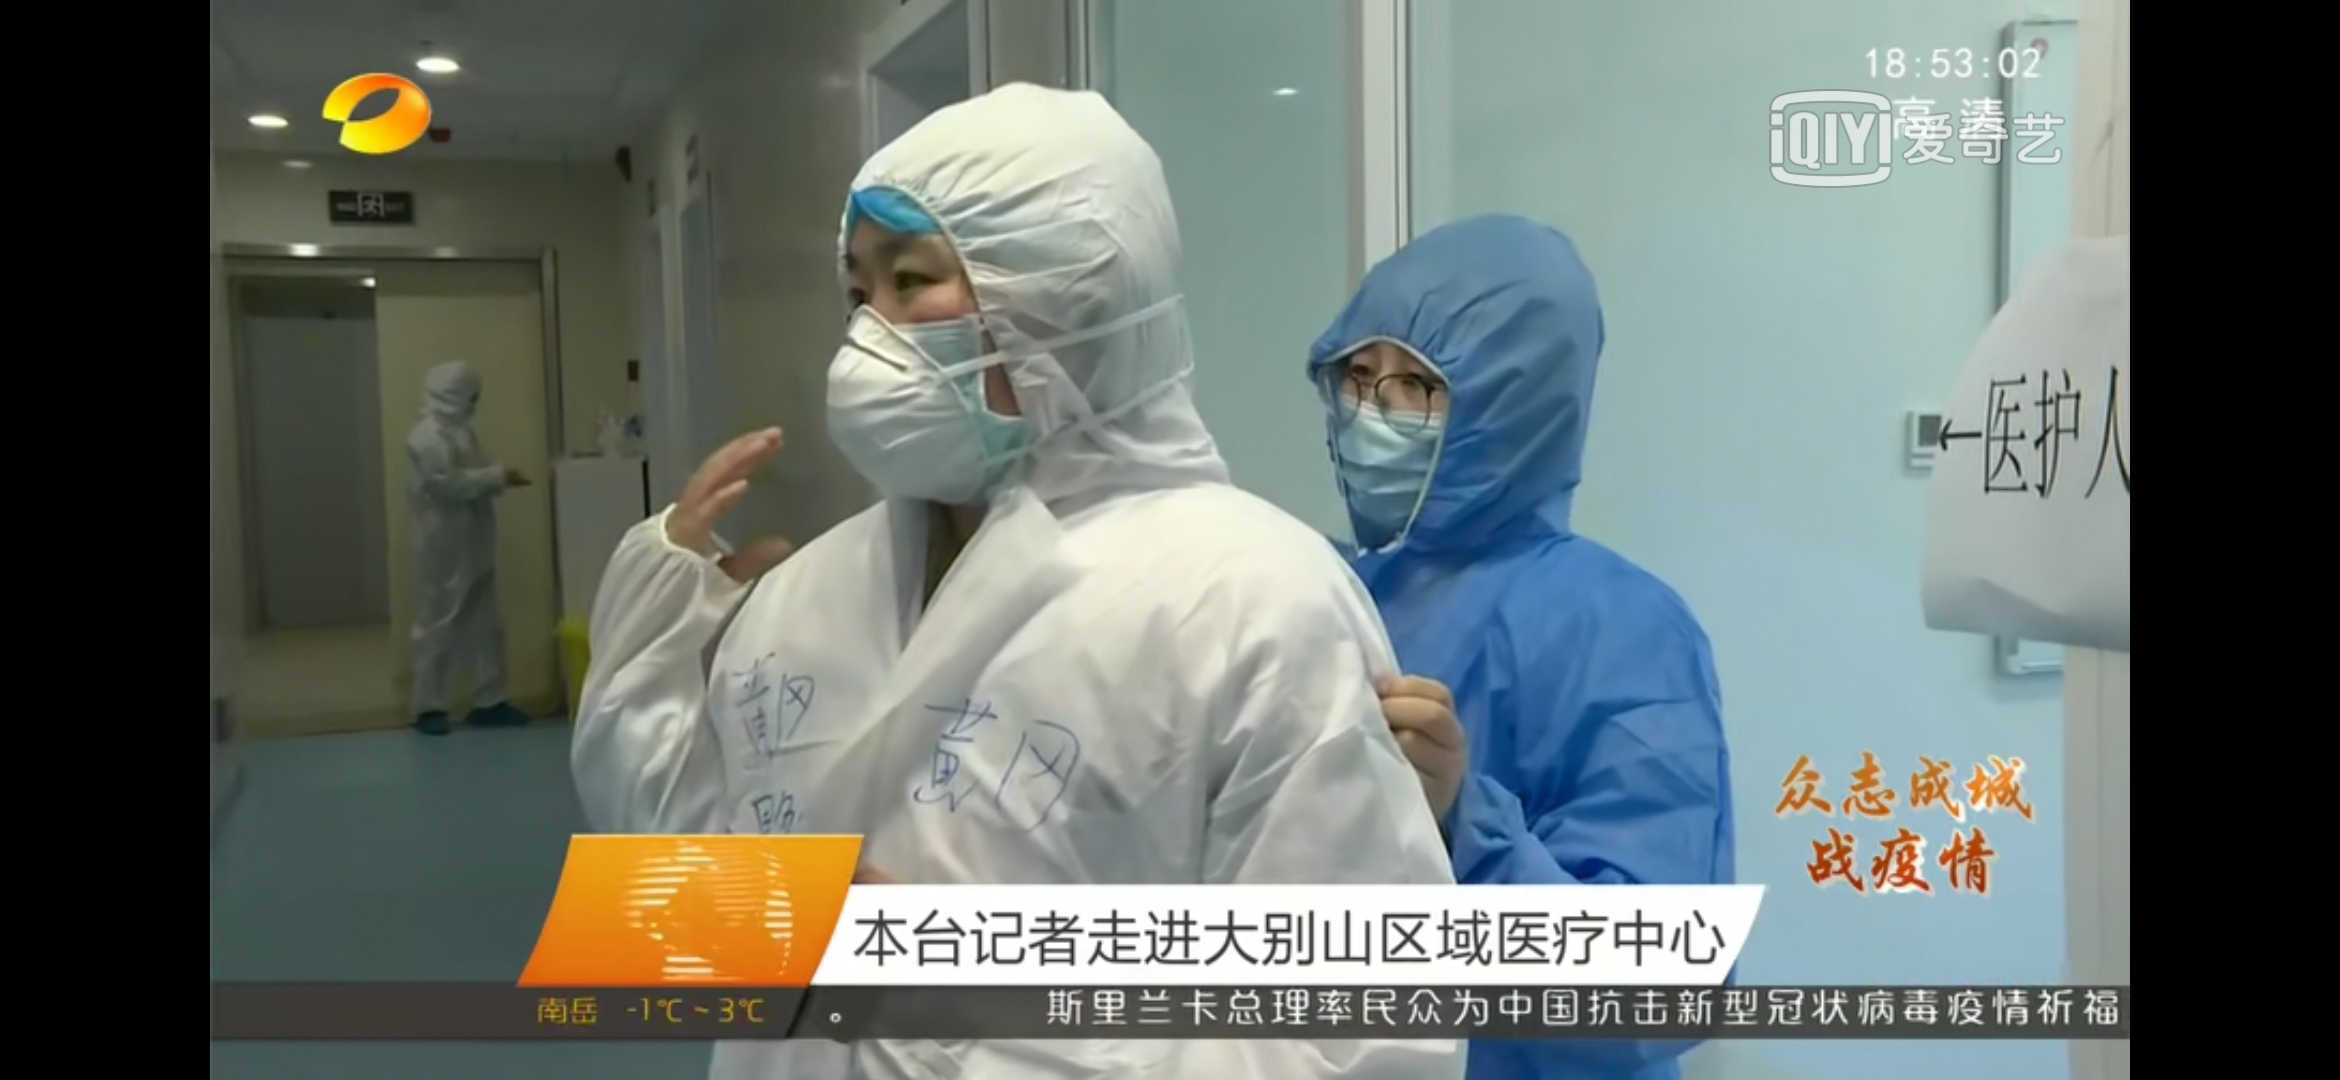correctlyWear: (822, 209, 1021, 516), (1312, 330, 1439, 556)
